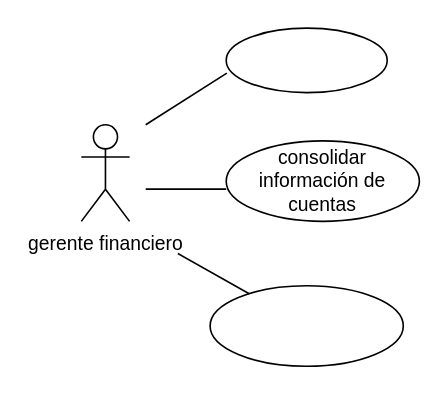
Image size: 448x394. Some labels were removed from this diagram. The shapes that lost their labels are listed below. From the top down, each one's centre as x and y in pixels, then its label:
[306,60]: solicitar reporte tributario
[305,325]: enviar reporte a DIAN
